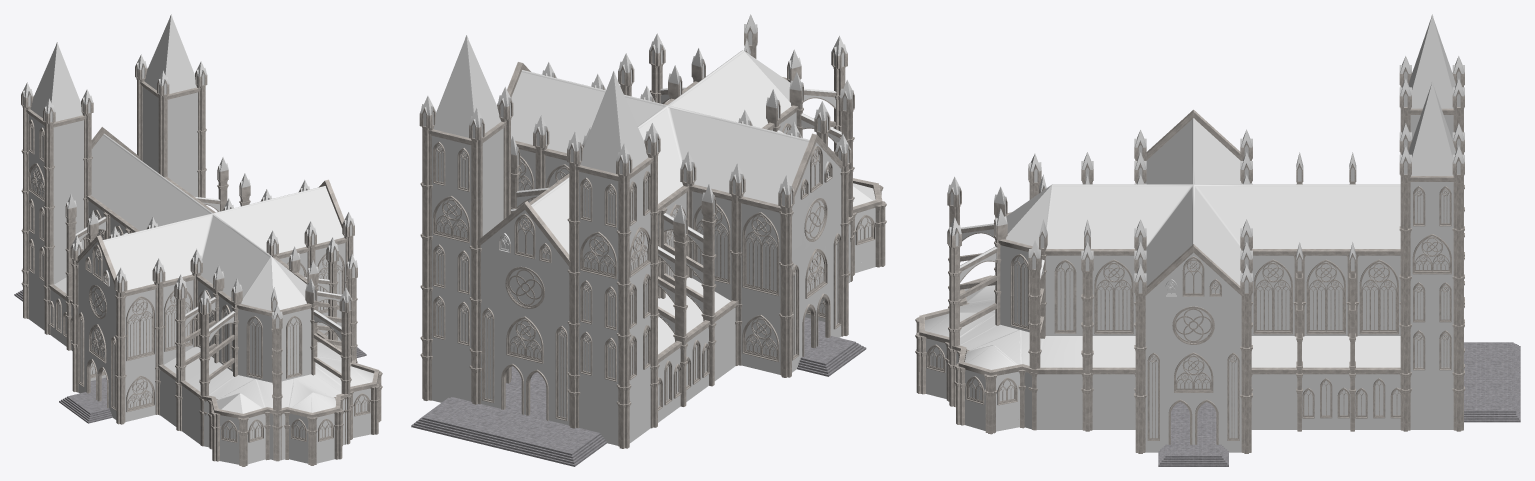
File: Church_A.fbx
The picture shows the model from 3 angles, left to right: view 1: azimuth 30°, elevation 25°; view 2: azimuth 150°, elevation 25°; view 3: azimuth 270°, elevation 25°; orthographic projection. The views are drawn at different scales.
Visible parts, largest first — view 1: Church_A; view 2: Church_A; view 3: Church_A.
Part boxes in pixels (x1,y1,x2,y2): Church_A: (14,14,382,466); Church_A: (411,14,886,466); Church_A: (915,14,1520,466).
Size of the model in its own units: 44 by 68.49 by 42.09.
